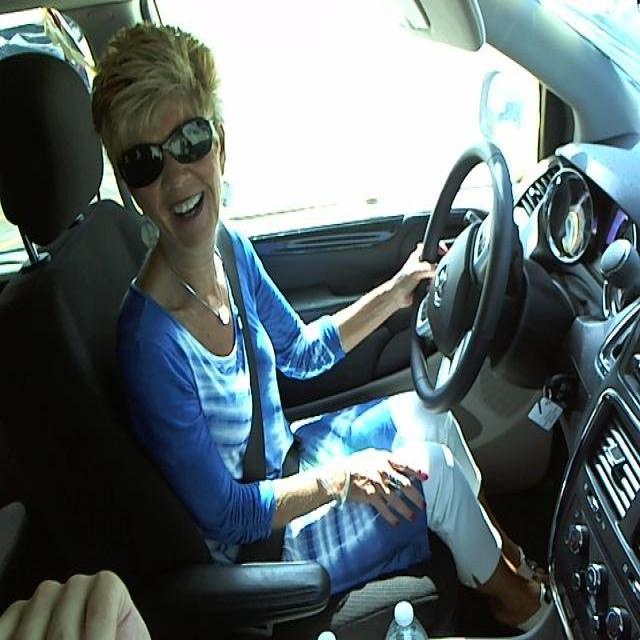seatbelt: (231, 253, 296, 483)
